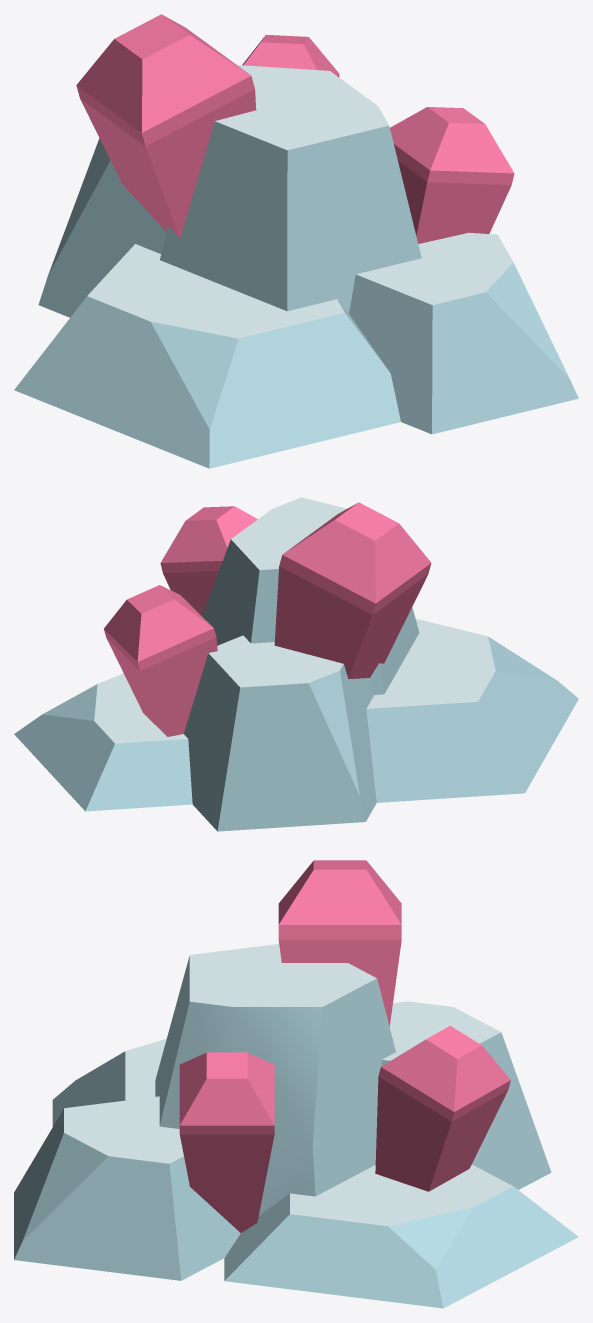
File: d_kenney_cristal_givre_grand.glb
3 views of the same model, one above another, from view 1: azimuth 30°, elevation 25°; view 2: azimuth 150°, elevation 25°; view 3: azimuth 270°, elevation 25° (orthographic). The views are drawn at different scales.
Parts seen in each view (by area): view 1: d_kenney_cristal_givre_grand; view 2: d_kenney_cristal_givre_grand; view 3: d_kenney_cristal_givre_grand.
Boxes of the visible parts, x1,y1,x2,y2 form: d_kenney_cristal_givre_grand: (14, 14, 578, 468); d_kenney_cristal_givre_grand: (14, 497, 578, 831); d_kenney_cristal_givre_grand: (14, 860, 578, 1308).
Bounding box in the file's own units: 1 × 0.5565 × 1.
Materials: 1 (1 with a texture image).
